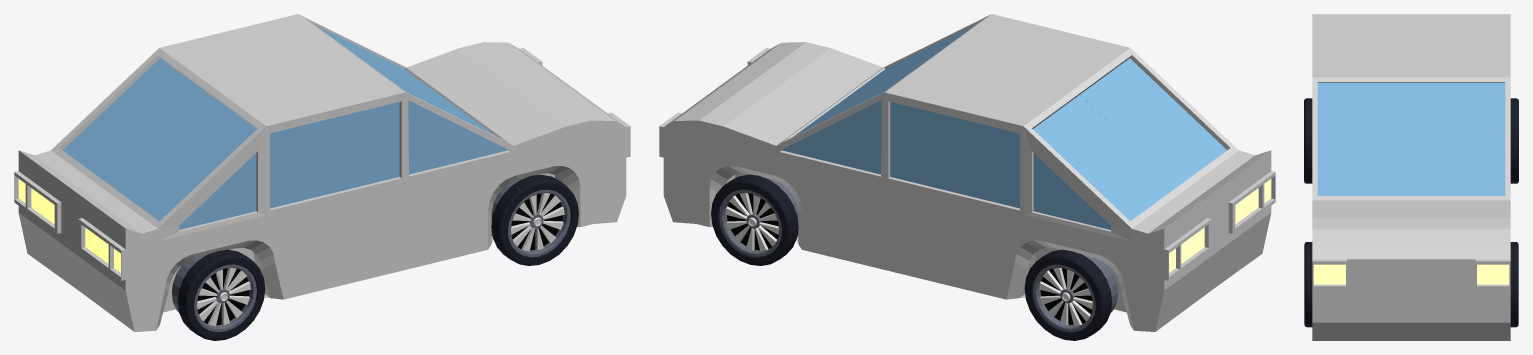
The model's file is carzip.glb.
3 views of the same model, side by side, from view 1: azimuth 30°, elevation 25°; view 2: azimuth 150°, elevation 25°; view 3: azimuth 270°, elevation 25° (orthographic). The views are drawn at different scales.
Parts seen in each view (by area): view 1: car low poly.002; view 2: car low poly.002; view 3: car low poly.002.
Boxes of the visible parts, x1,y1,x2,y2 form: car low poly.002: (14,14,630,340); car low poly.002: (659,14,1275,340); car low poly.002: (1304,14,1518,340).
Size of the model in its own units: 2.32 by 0.8796 by 0.9154.
